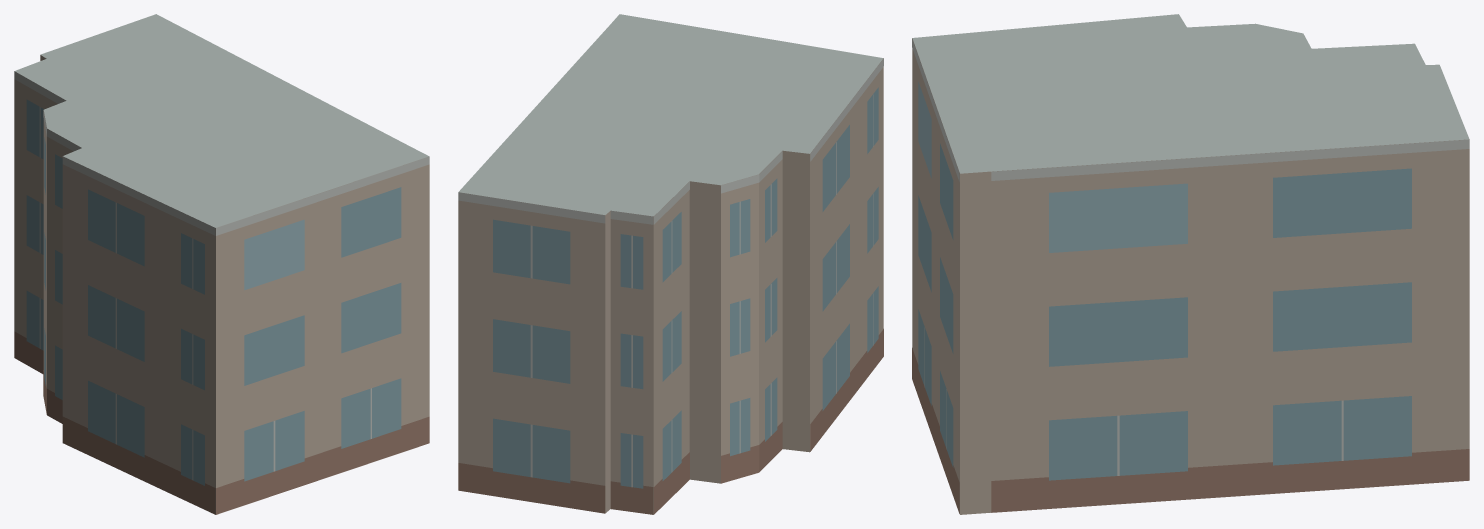
The model's file is survey-upis-33013992.glb.
3 views of the same model, side by side, from view 1: azimuth 30°, elevation 25°; view 2: azimuth 150°, elevation 25°; view 3: azimuth 270°, elevation 25° (orthographic). The views are drawn at different scales.
Parts seen in each view (by area): view 1: survey-upis-33013992.tmp; view 2: survey-upis-33013992.tmp; view 3: survey-upis-33013992.tmp.
Part boxes in pixels (x1=…): survey-upis-33013992.tmp: x1=14, y1=14, x2=429, y2=514; survey-upis-33013992.tmp: x1=458, y1=14, x2=883, y2=514; survey-upis-33013992.tmp: x1=912, y1=14, x2=1469, y2=514.
Bounding box in the file's own units: 8.74 × 8.7 × 12.89.
